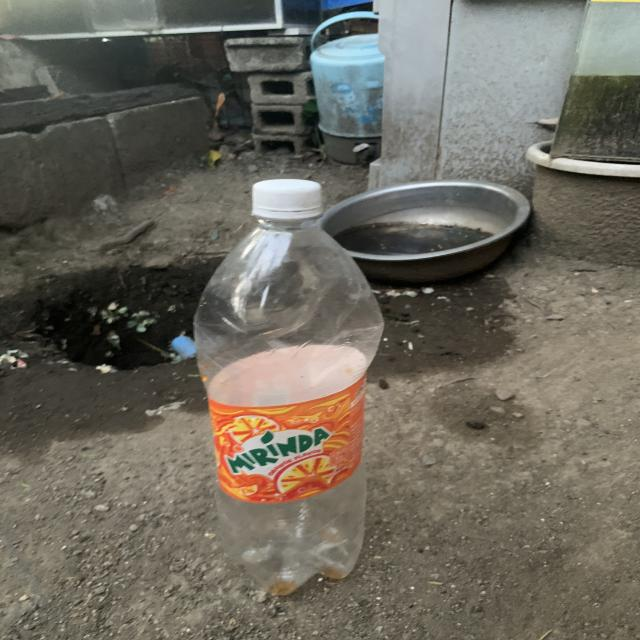Bottle: (194, 179, 383, 596)
